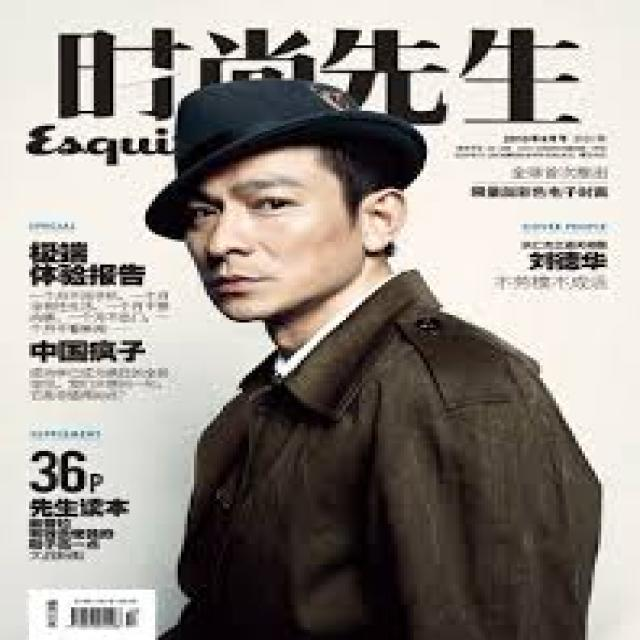Newspaper: (10, 0, 640, 640)
